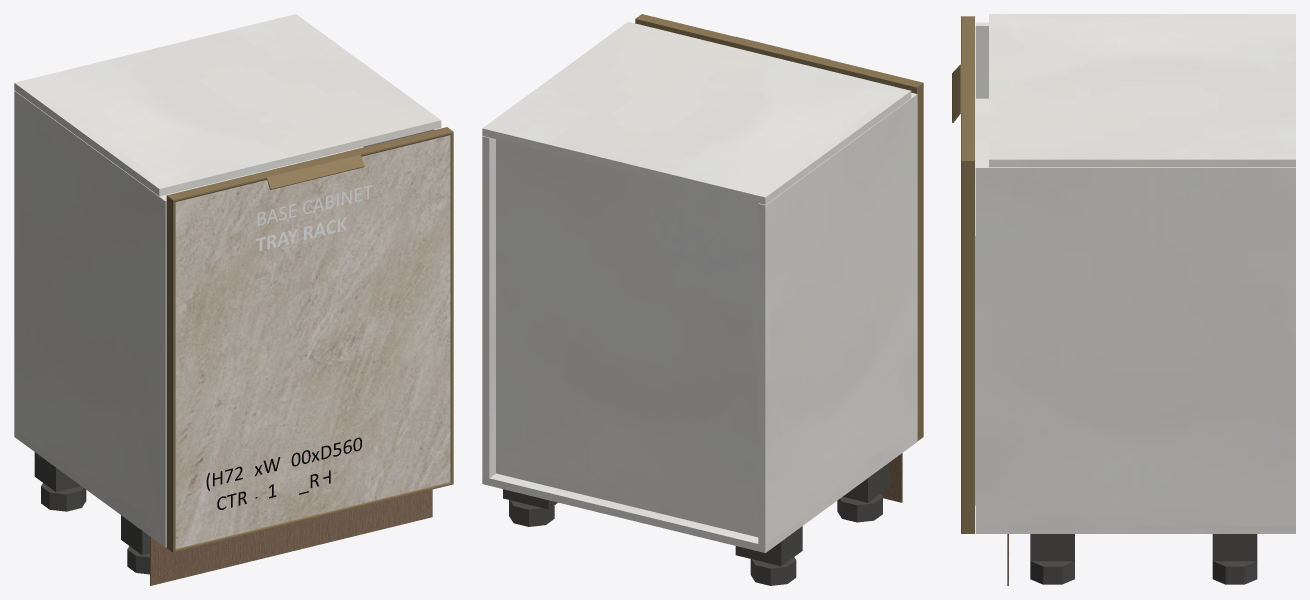
Rendered from BC-AC-TTS-ST-TR-RHS-XXX-600-720-560-15.glb.
The picture shows the model from 3 angles, left to right: view 1: azimuth 30°, elevation 25°; view 2: azimuth 150°, elevation 25°; view 3: azimuth 270°, elevation 25°; orthographic projection. The views are drawn at different scales.
Parts seen in each view (by area): view 1: Object_node_11, TP_node, TP_node_1, Object_node_13, Extrusion_node_4, ExtrSplGeo, Extrusion_node, Extrusion_node_2, 2D text, 2D text_node, TP, Extrusion_node_3 (+3 smaller); view 2: TP_node_9, TP_node, TP_node_1, TP, TP_node_0, Extrusion_node_4, Extrusion_node, ExtrSplGeo, Plate, Foot, Foot_node_0, Foot_node (+2 smaller); view 3: TP_node_0, TP_node_1, Extrusion_node_2, TP, Extrusion_node, Plate_node, Plate_node_1, ExtrSplGeo, TP_node, Foot_node, TP_node_8, Foot_node_1.
Part boxes in pixels (x1,y1,x2,y2): Object_node_11: [175, 135, 450, 548]; TP_node: [14, 90, 166, 540]; TP_node_1: [14, 14, 441, 196]; Object_node_13: [150, 489, 432, 585]; Extrusion_node_4: [166, 196, 175, 552]; ExtrSplGeo: [260, 150, 364, 189]; Extrusion_node: [167, 127, 453, 201]; Extrusion_node_2: [450, 132, 453, 483]; 2D text: [256, 185, 372, 250]; 2D text_node: [206, 437, 361, 509]; TP: [14, 430, 166, 547]; Extrusion_node_3: [173, 482, 453, 552]; TP_node_9: [496, 139, 758, 537]; TP_node: [758, 92, 917, 545]; TP_node_1: [482, 21, 911, 204]; TP: [482, 434, 917, 552]; TP_node_0: [482, 136, 495, 478]; Extrusion_node_4: [911, 83, 923, 440]; Extrusion_node: [635, 14, 923, 91]; ExtrSplGeo: [729, 36, 830, 68]; Plate: [735, 526, 802, 566]; Foot: [750, 557, 796, 585]; Foot_node_0: [837, 494, 882, 522]; Foot_node: [509, 500, 554, 526]; TP_node_0: [975, 164, 1295, 526]; TP_node_1: [989, 14, 1295, 167]; Extrusion_node_2: [961, 161, 974, 533]; TP: [975, 526, 1295, 533]; Extrusion_node: [961, 16, 974, 160]; Plate_node: [1212, 534, 1257, 561]; Plate_node_1: [1030, 534, 1074, 561]; ExtrSplGeo: [952, 64, 974, 122]; TP_node: [975, 22, 988, 98]; Foot_node: [1212, 561, 1257, 584]; TP_node_8: [975, 98, 988, 243]; Foot_node_1: [1030, 561, 1074, 584].
Size of what is drawn, in the model's own units: 0.6 by 0.82 by 0.5992.
Materials: 8 (3 with a texture image).
